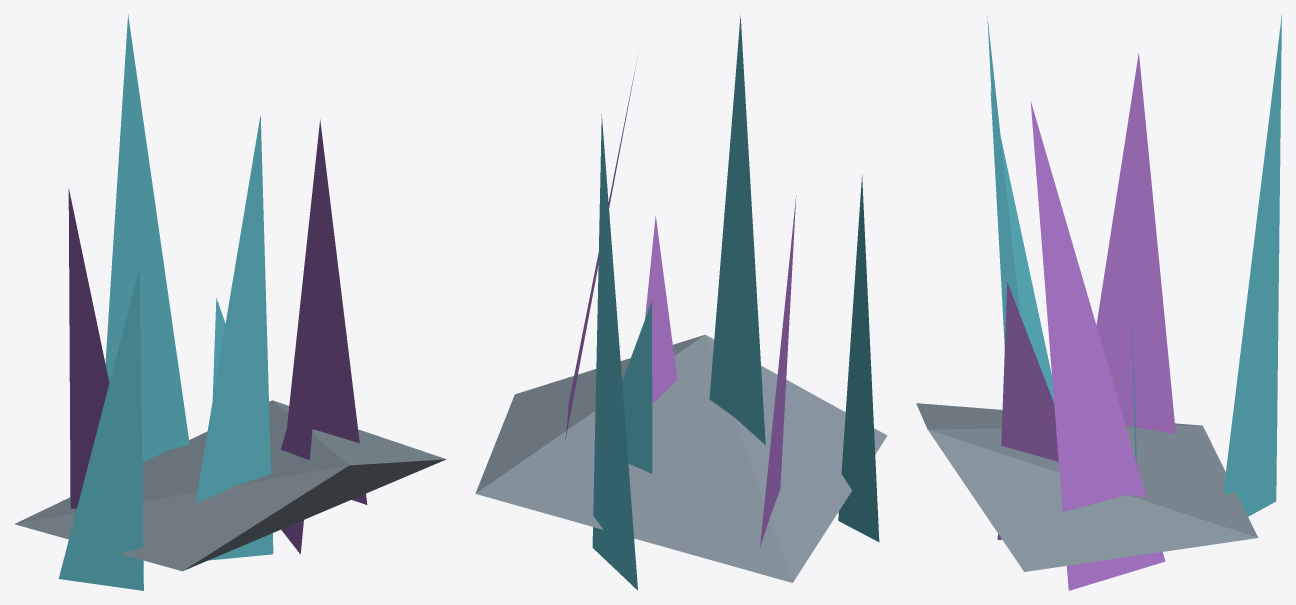
The model's file is Crystal_03_LOD2.fbx.
3 renders of one model, left to right at view 1: azimuth 30°, elevation 25°; view 2: azimuth 150°, elevation 25°; view 3: azimuth 270°, elevation 25°, orthographic. The views are drawn at different scales.
Visible parts, largest first — view 1: Crystal_03_LOD2; view 2: Crystal_03_LOD2; view 3: Crystal_03_LOD2.
Part boxes in pixels (bbox=[...]): Crystal_03_LOD2: bbox=[14, 14, 446, 590]; Crystal_03_LOD2: bbox=[475, 15, 887, 590]; Crystal_03_LOD2: bbox=[916, 15, 1281, 590].
Size of the model in its own units: 160 by 191 by 124.
